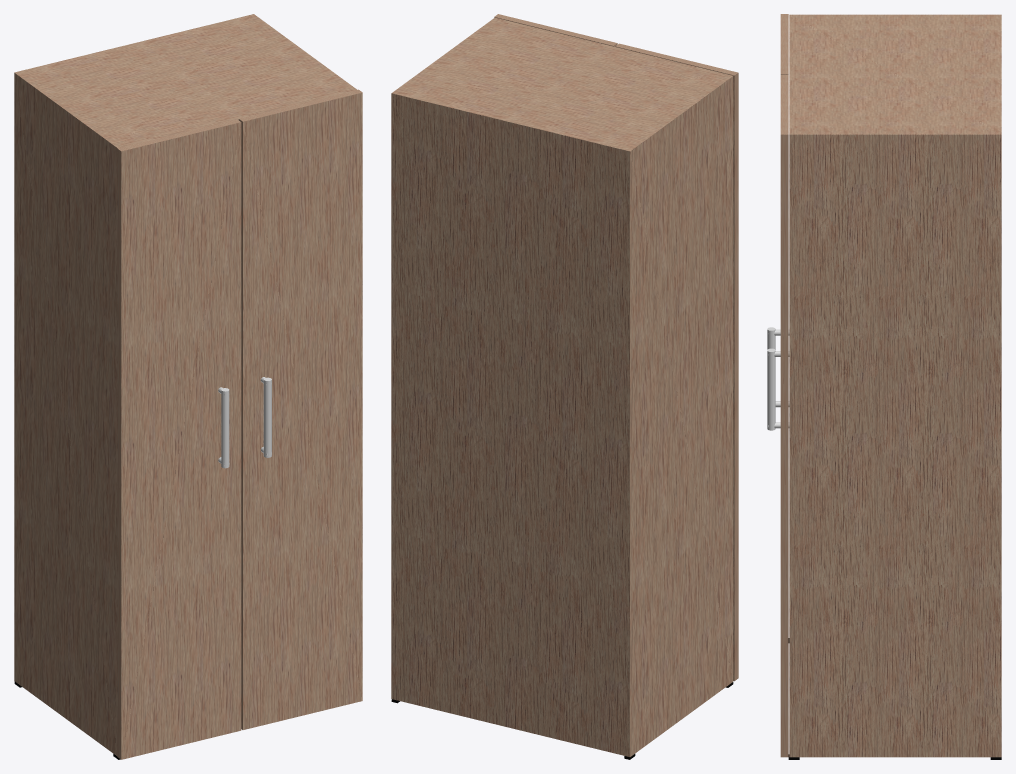
File: BP_한샘_샘베딩_옷장_C.glb
3 renders of one model, left to right at view 1: azimuth 30°, elevation 25°; view 2: azimuth 150°, elevation 25°; view 3: azimuth 270°, elevation 25°, orthographic. The views are drawn at different scales.
Visible parts, largest first — view 1: Cube; view 2: Cube; view 3: Cube.
Boxes of the visible parts, box(x1,y1,x2,y2) form: Cube: box(14, 14, 362, 759); Cube: box(391, 14, 738, 759); Cube: box(767, 14, 1001, 759).
Bounding box in the file's own units: 0.8056 × 1.95 × 0.6619.
3 materials, 1 textured.
